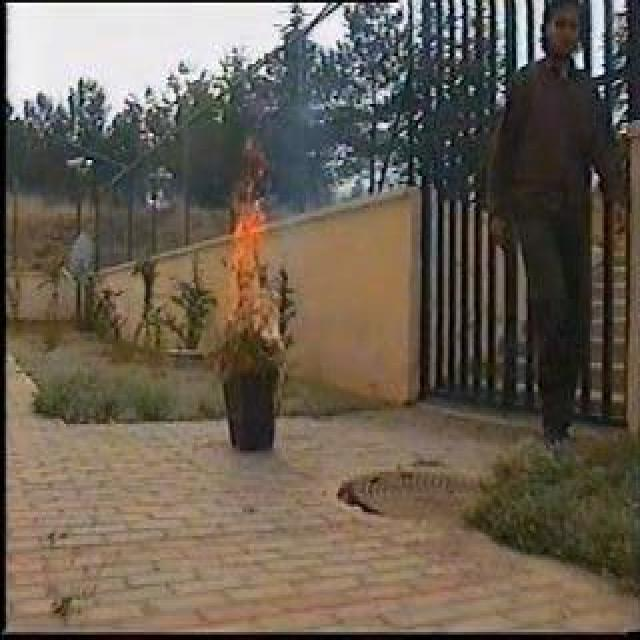fire: (227, 192, 269, 323)
